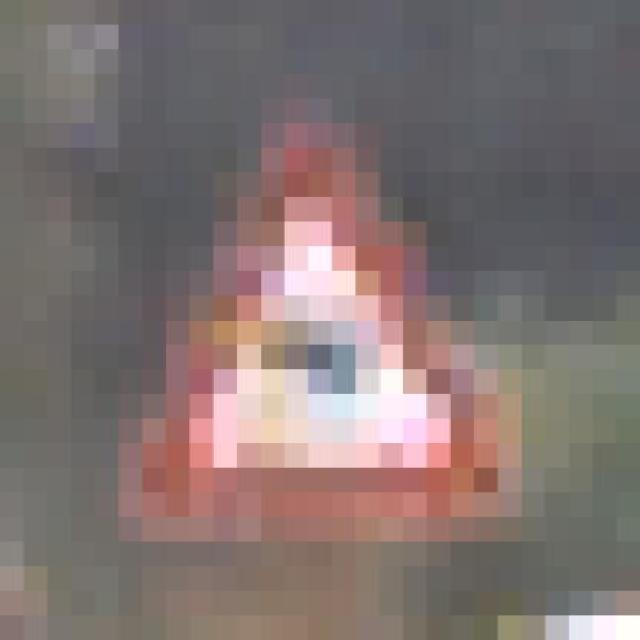Slippery Road Ahead: (95, 99, 522, 542)
